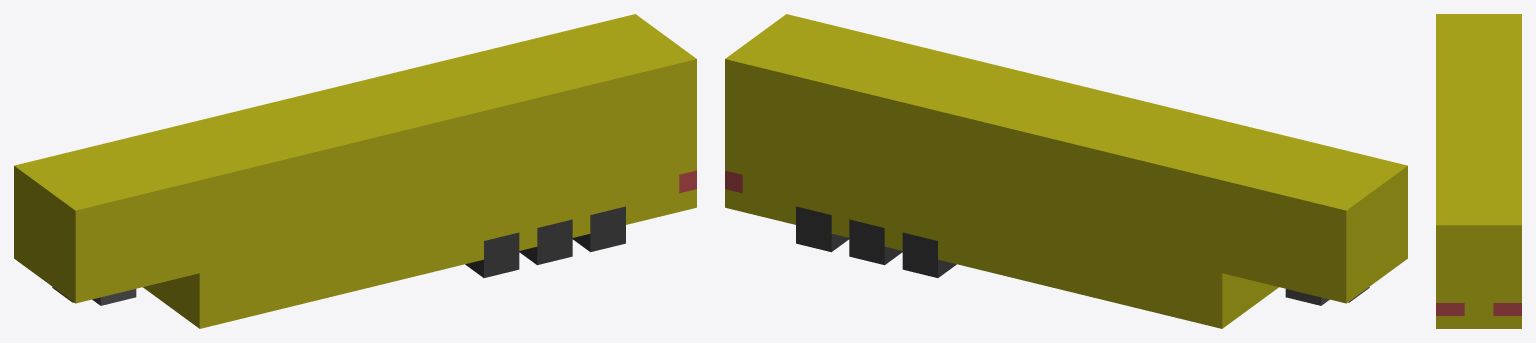
The model's file is semitrailer-v1-yellow.gltf.
3 renders of one model, left to right at view 1: azimuth 30°, elevation 25°; view 2: azimuth 150°, elevation 25°; view 3: azimuth 270°, elevation 25°, orthographic. The views are drawn at different scales.
Visible parts, largest first — view 1: model, wheels; view 2: model, wheels; view 3: model.
Part boxes in pixels (x1,y1,x2,y2): model: (14,14,696,328); wheels: (465,206,625,277); model: (725,14,1407,328); wheels: (796,206,956,277); model: (1436,14,1521,328).
Bounding box in the file's own units: 3.5 × 0.9 × 0.6.
2 materials, 2 textured.
